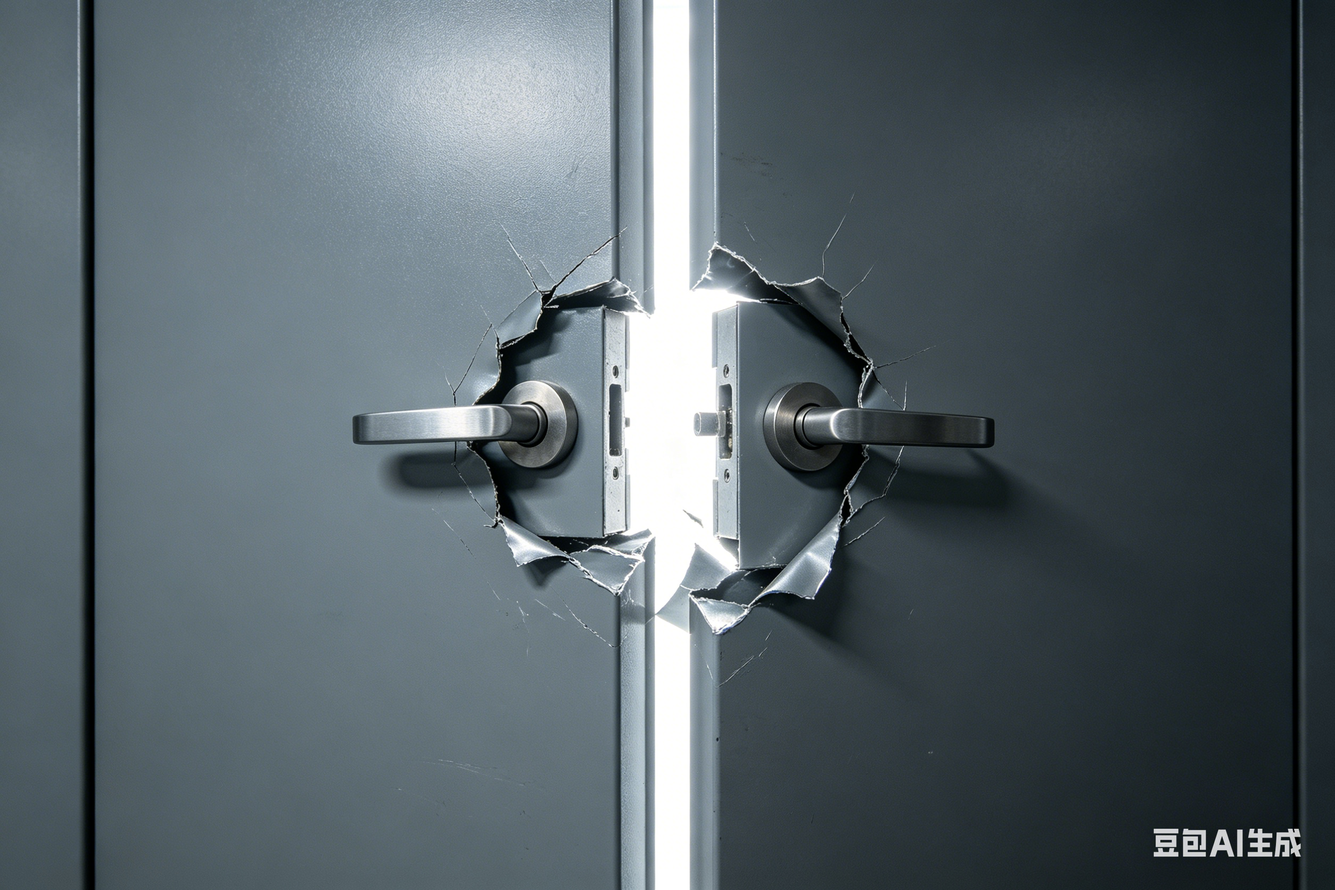BadLock: (698, 247, 864, 610), (498, 283, 648, 594)
